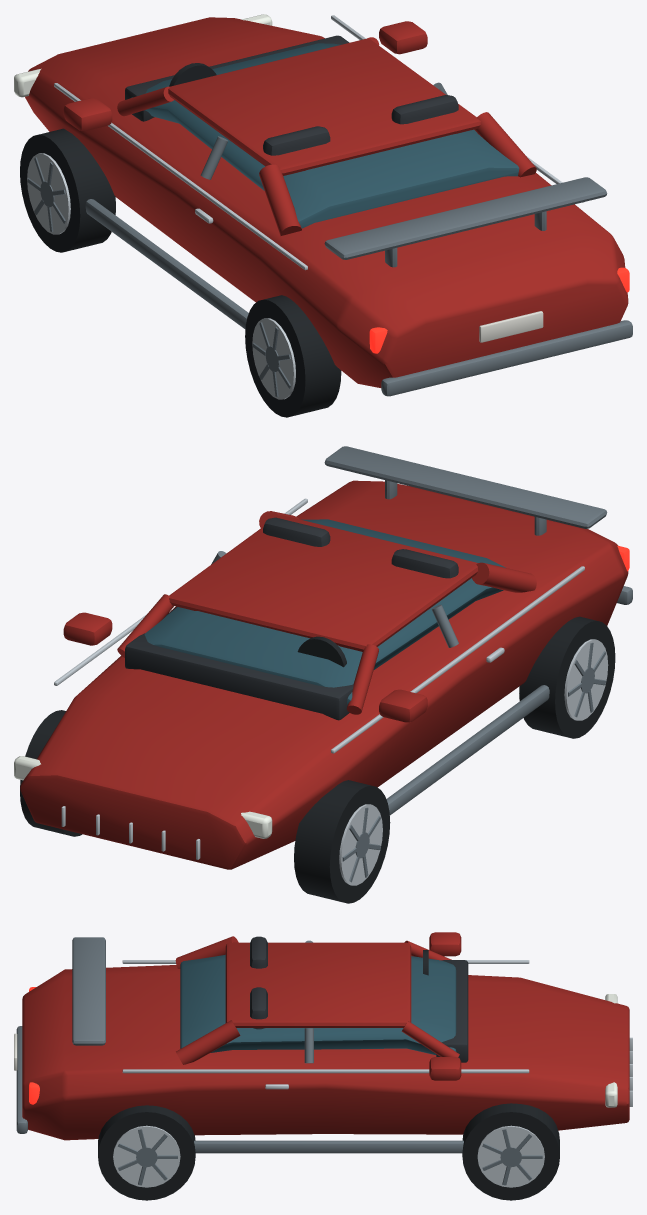
Rendered from Vela_Sport.fbx.
3 views of the same model, one above another, from view 1: azimuth 30°, elevation 25°; view 2: azimuth 150°, elevation 25°; view 3: azimuth 270°, elevation 25° (orthographic). The views are drawn at different scales.
Parts seen in each view (by area): view 1: Body.002, Wheel_LF.002, Wheel_LR.002; view 2: Body.002, Wheel_LF.002, Wheel_LR.002, Wheel_RF.002; view 3: Body.002, Wheel_RF.002, Wheel_RR.002.
Boxes of the visible parts, <box> form: Body.002: <box>25,15,632,396</box>; Wheel_LF.002: <box>20,128,115,252</box>; Wheel_LR.002: <box>245,295,341,417</box>; Body.002: <box>20,446,632,869</box>; Wheel_LF.002: <box>294,780,390,903</box>; Wheel_LR.002: <box>519,616,615,738</box>; Wheel_RF.002: <box>20,710,82,836</box>; Body.002: <box>14,932,632,1153</box>; Wheel_RF.002: <box>462,1103,559,1200</box>; Wheel_RR.002: <box>98,1105,195,1200</box>.
Bounding box in the file's own units: 2.34 × 1.33 × 4.43.
